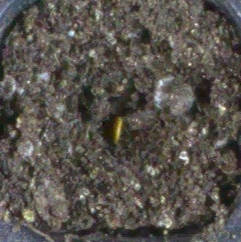pepper seed: (49, 41, 174, 188)
